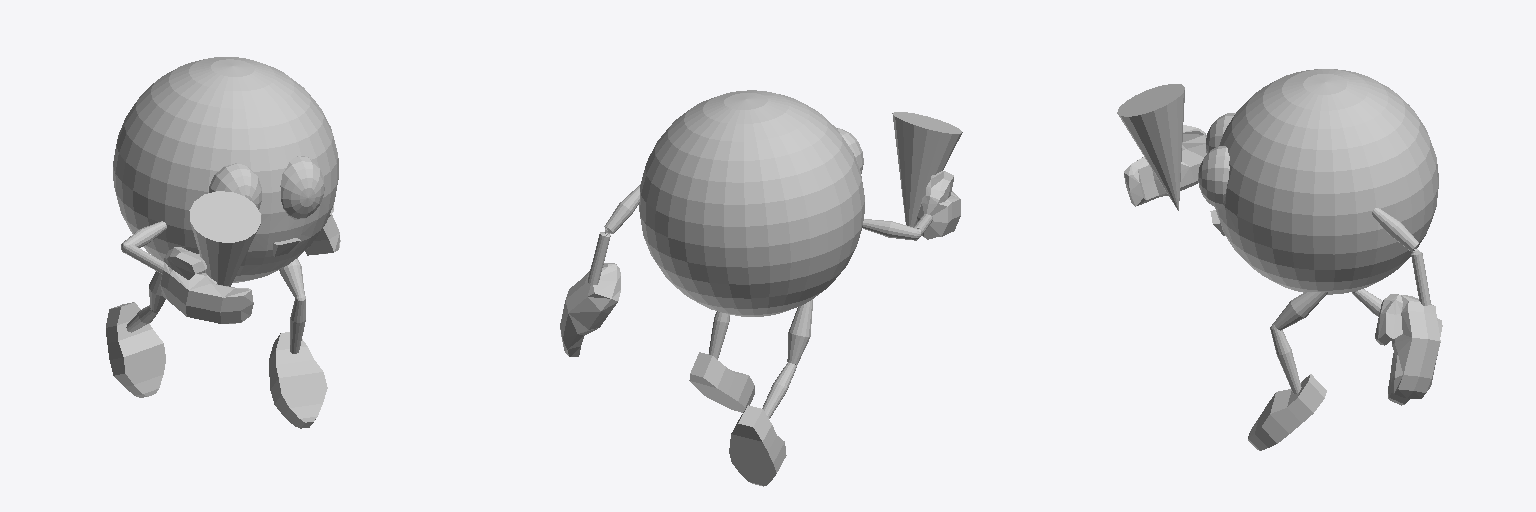
The model's file is Rusko_ani_02_000016.obj.
3 views of the same model, side by side, from view 1: azimuth 30°, elevation 25°; view 2: azimuth 150°, elevation 25°; view 3: azimuth 270°, elevation 25° (orthographic).
Visible parts, largest first — view 1: Rusko_Sphere; view 2: Rusko_Sphere; view 3: Rusko_Sphere.
Part boxes in pixels (bbox=[...]): Rusko_Sphere: bbox=[106, 57, 340, 428]; Rusko_Sphere: bbox=[560, 90, 962, 486]; Rusko_Sphere: bbox=[1117, 69, 1442, 450].
Size of the model in its own units: 5.85 by 6.75 by 5.74.